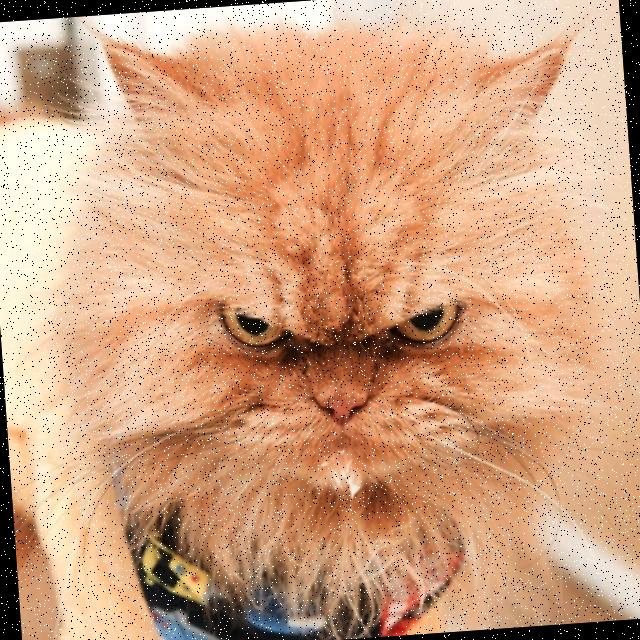Angry: (135, 203, 518, 517)
